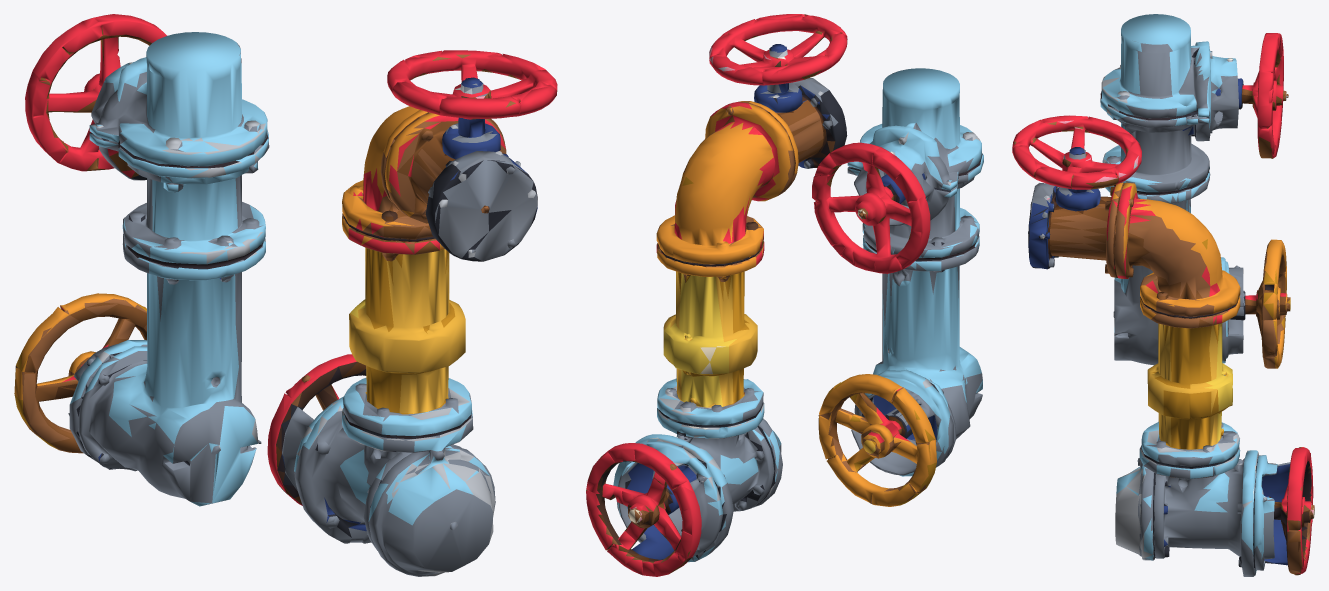
The model's file is SM_pipes_valve.glb.
3 renders of one model, left to right at view 1: azimuth 30°, elevation 25°; view 2: azimuth 150°, elevation 25°; view 3: azimuth 270°, elevation 25°, orthographic. The views are drawn at different scales.
Parts seen in each view (by area): view 1: SM_pipes_valve; view 2: SM_pipes_valve; view 3: SM_pipes_valve.
Boxes of the visible parts, x1,y1,x2,y2 form: SM_pipes_valve: (14,14,557,576); SM_pipes_valve: (586,14,983,576); SM_pipes_valve: (1012,14,1314,576).
Size of the model in its own units: 0.7303 by 1 by 0.608.
Materials: 1 (1 with a texture image).
